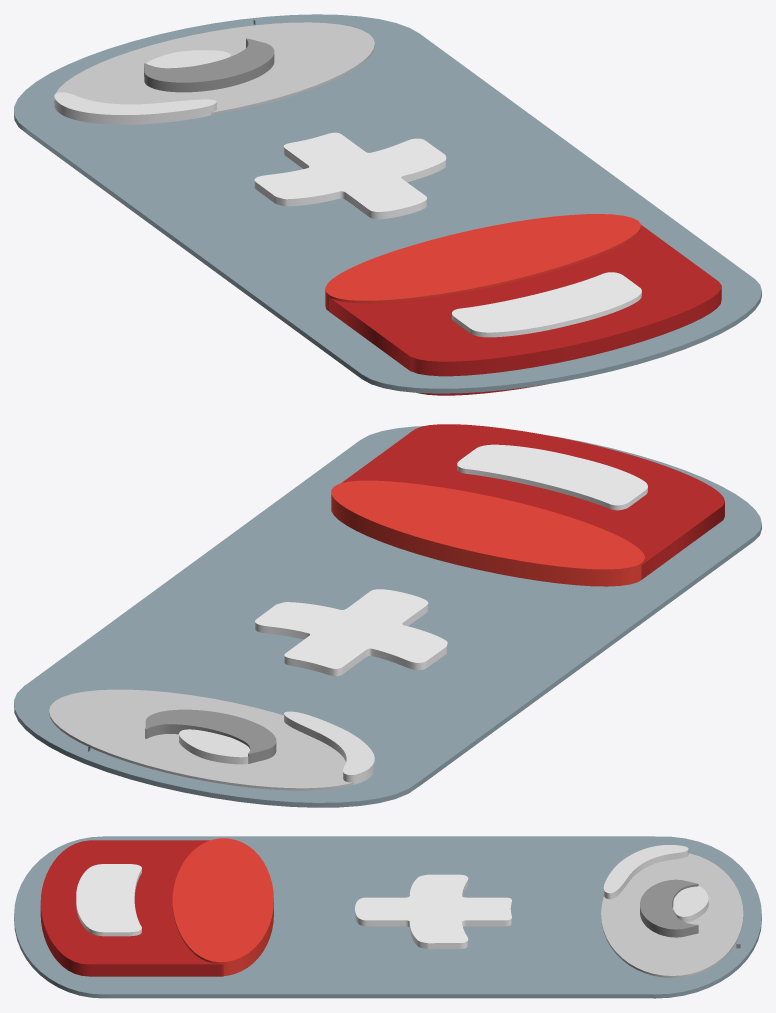
File: emoji_u1faab.glb
3 views of the same model, one above another, from view 1: azimuth 30°, elevation 25°; view 2: azimuth 150°, elevation 25°; view 3: azimuth 270°, elevation 25° (orthographic). The views are drawn at different scales.
Visible parts, largest first — view 1: emoji_u1faab; view 2: emoji_u1faab; view 3: emoji_u1faab.
Boxes of the visible parts, left/top/right/bottom form: emoji_u1faab: left=14, top=14, right=761, bottom=395; emoji_u1faab: left=14, top=424, right=761, bottom=807; emoji_u1faab: left=14, top=836, right=761, bottom=998.
Size of the model in its own units: 0.0169 by 0.0018 by 0.0339.
